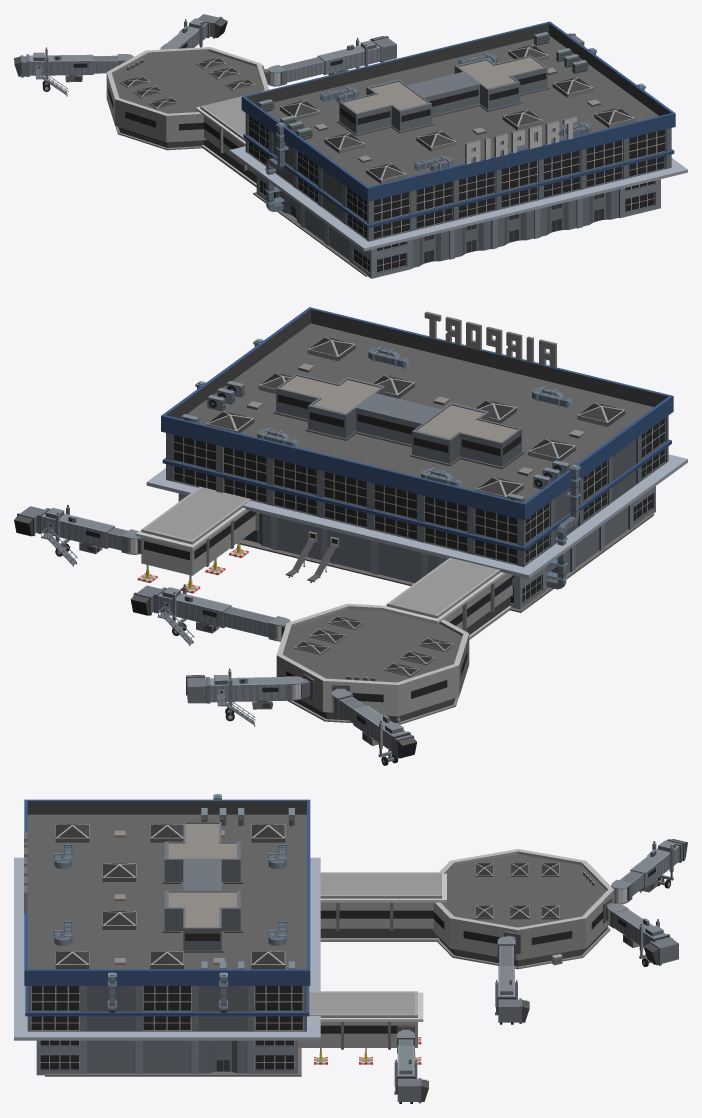
File: Main Building.fbx
3 renders of one model, top to bottom at view 1: azimuth 30°, elevation 25°; view 2: azimuth 150°, elevation 25°; view 3: azimuth 270°, elevation 25°, orthographic. The views are drawn at different scales.
Parts seen in each view (by area): view 1: Airport_Sign, Airport_Gangway_Connector_4, Airport_Gangway01, Airport_Building04, Airport_Gangway07, Airport_Gangway02_1; view 2: Airport_Sign, Airport_Gangway_Connector_4, Airport_Building02, Airport_Building04, Airport_Gangway01, Airport_Gangway03, Airport_Gangway02_1, Airport_Gangway07; view 3: Airport_Sign, Airport_Gangway_Connector_4, Airport_Building04, Airport_Building02, Airport_Gangway02_1, Airport_Gangway07, Airport_Gangway01, Airport_Gangway03.
Part boxes in pixels (left/top/right/bottom): Airport_Sign: left=229, top=21, right=687, bottom=278; Airport_Gangway_Connector_4: left=106, top=47, right=270, bottom=150; Airport_Gangway01: left=267, top=36, right=396, bottom=86; Airport_Building04: left=195, top=96, right=256, bottom=187; Airport_Gangway07: left=14, top=47, right=133, bottom=96; Airport_Gangway02_1: left=160, top=14, right=227, bottom=49; Airport_Sign: left=146, top=307, right=687, bottom=612; Airport_Gangway_Connector_4: left=276, top=603, right=469, bottom=724; Airport_Building02: left=135, top=486, right=258, bottom=593; Airport_Building04: left=381, top=557, right=512, bottom=639; Airport_Gangway01: left=130, top=584, right=290, bottom=645; Airport_Gangway03: left=14, top=505, right=141, bottom=566; Airport_Gangway02_1: left=186, top=668, right=303, bottom=726; Airport_Gangway07: left=331, top=689, right=416, bottom=765; Airport_Sign: left=14, top=794, right=320, bottom=1076; Airport_Gangway_Connector_4: left=432, top=849, right=616, bottom=969; Airport_Building04: left=320, top=872, right=446, bottom=941; Airport_Building02: left=298, top=991, right=423, bottom=1064; Airport_Gangway02_1: left=607, top=903, right=678, bottom=966; Airport_Gangway07: left=611, top=839, right=687, bottom=904; Airport_Gangway01: left=495, top=936, right=529, bottom=1024; Airport_Gangway03: left=394, top=1030, right=428, bottom=1103.
Size of the model in its own units: 15730 by 3906 by 17948.
